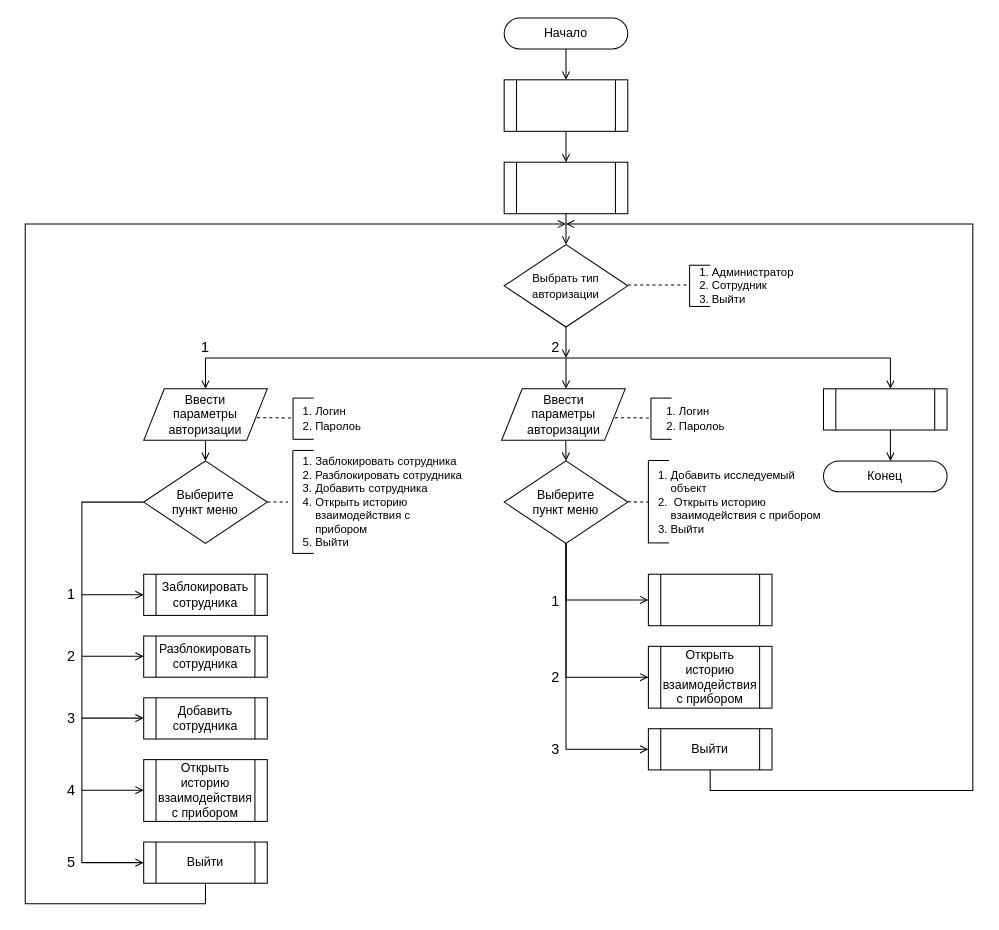
Some shapes in this 999 by 930 pixel diagram are drawn without their labels. Here are the shapes that lost their labels. From the top down, the box of each, then its label:
(503, 79, 628, 131): Запустить браузер
(503, 161, 628, 214): Подлкючить к сайту
(822, 388, 947, 430): Закрыть браузер
(647, 573, 772, 626): Добавить новый исследуемый объект
